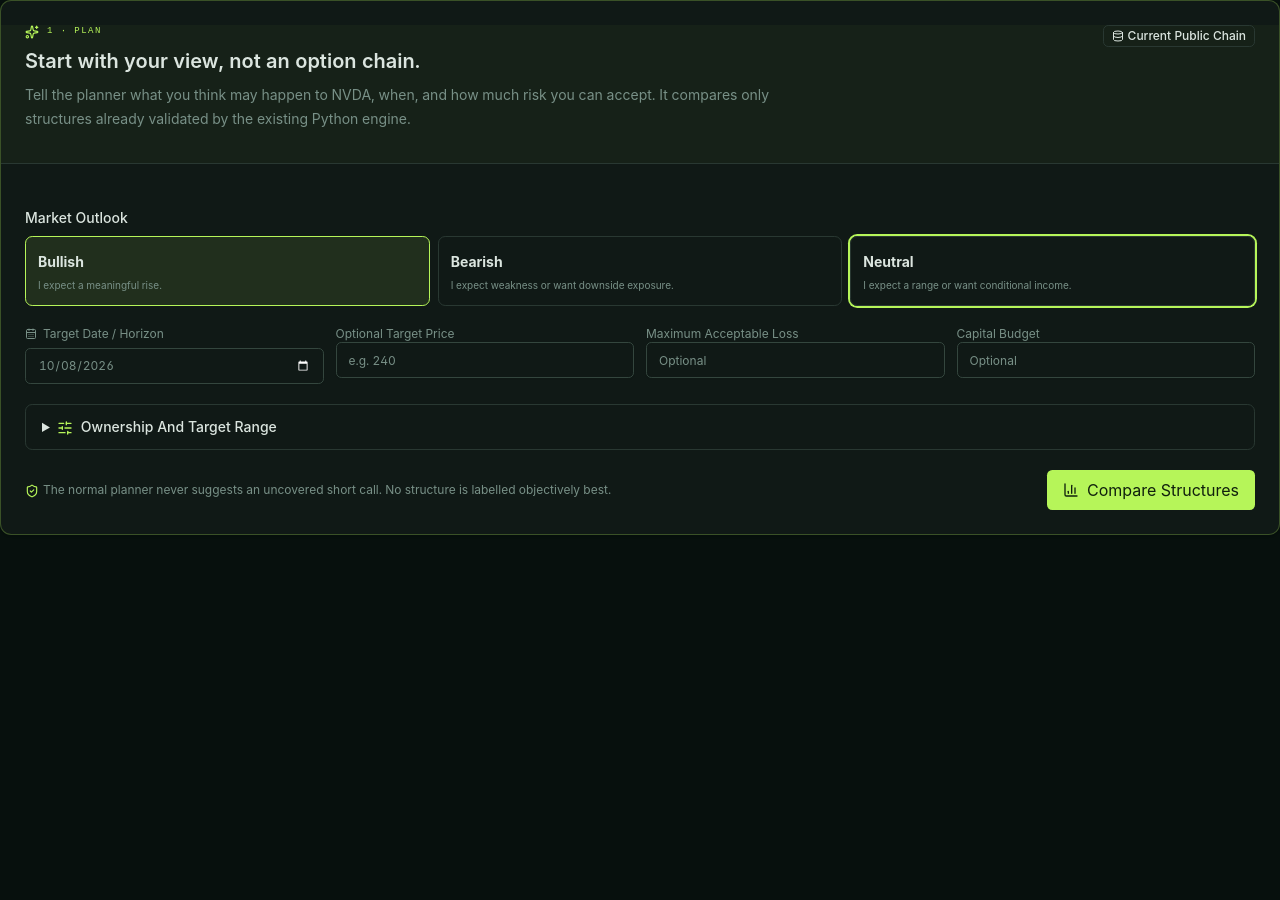
it: OptionsPlanner › supports keyboard outlook selection and sends ownership constraints
The width and height of the screenshot is (1280, 900).
Press Enter
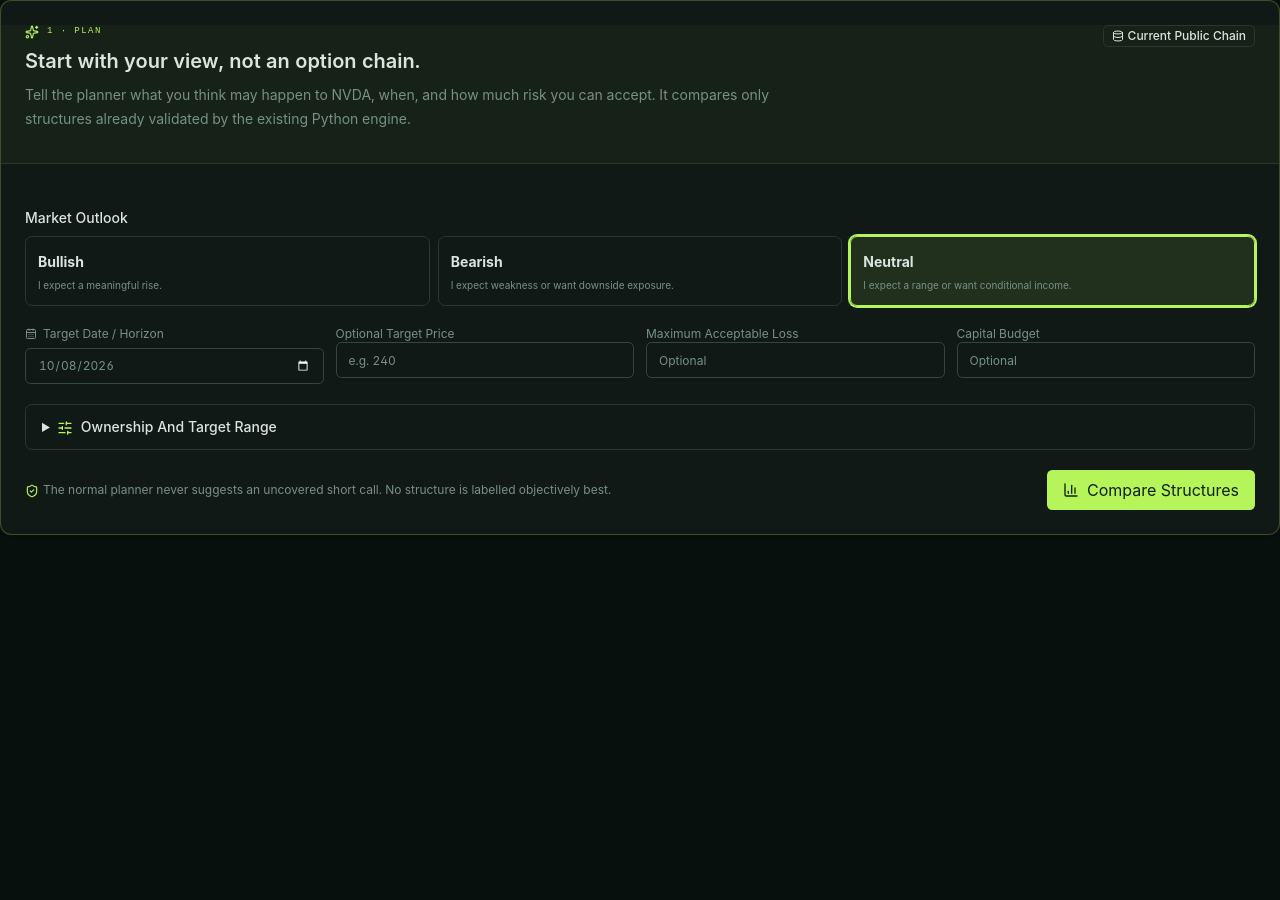
Click the heading "Ownership And Target Range" at coordinates (167, 427), box x1=57 y1=418 x2=277 y2=436
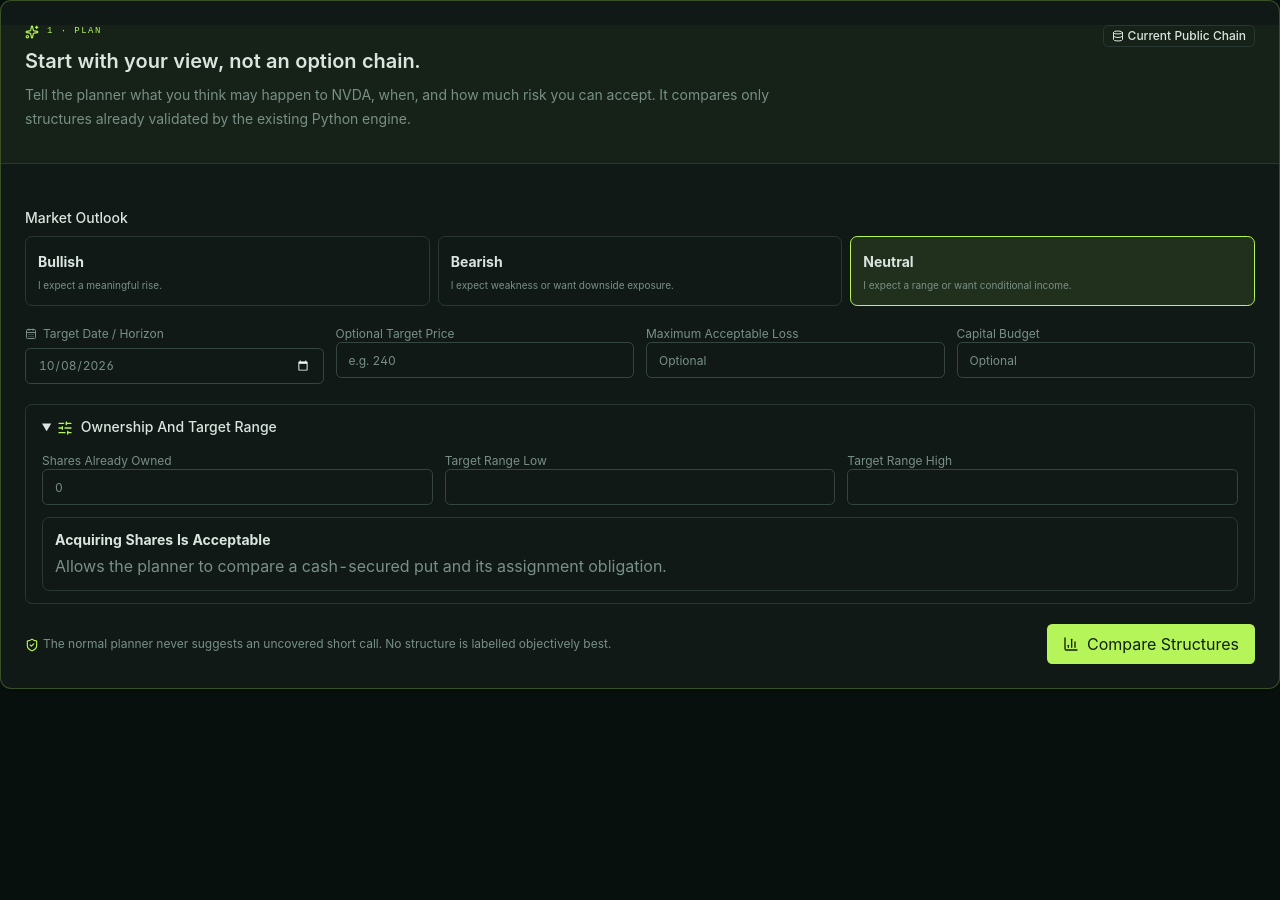
Replace the text in the number field labelled "Shares Already Owned" with "100" at coordinates (237, 487), box x1=42 y1=469 x2=433 y2=505
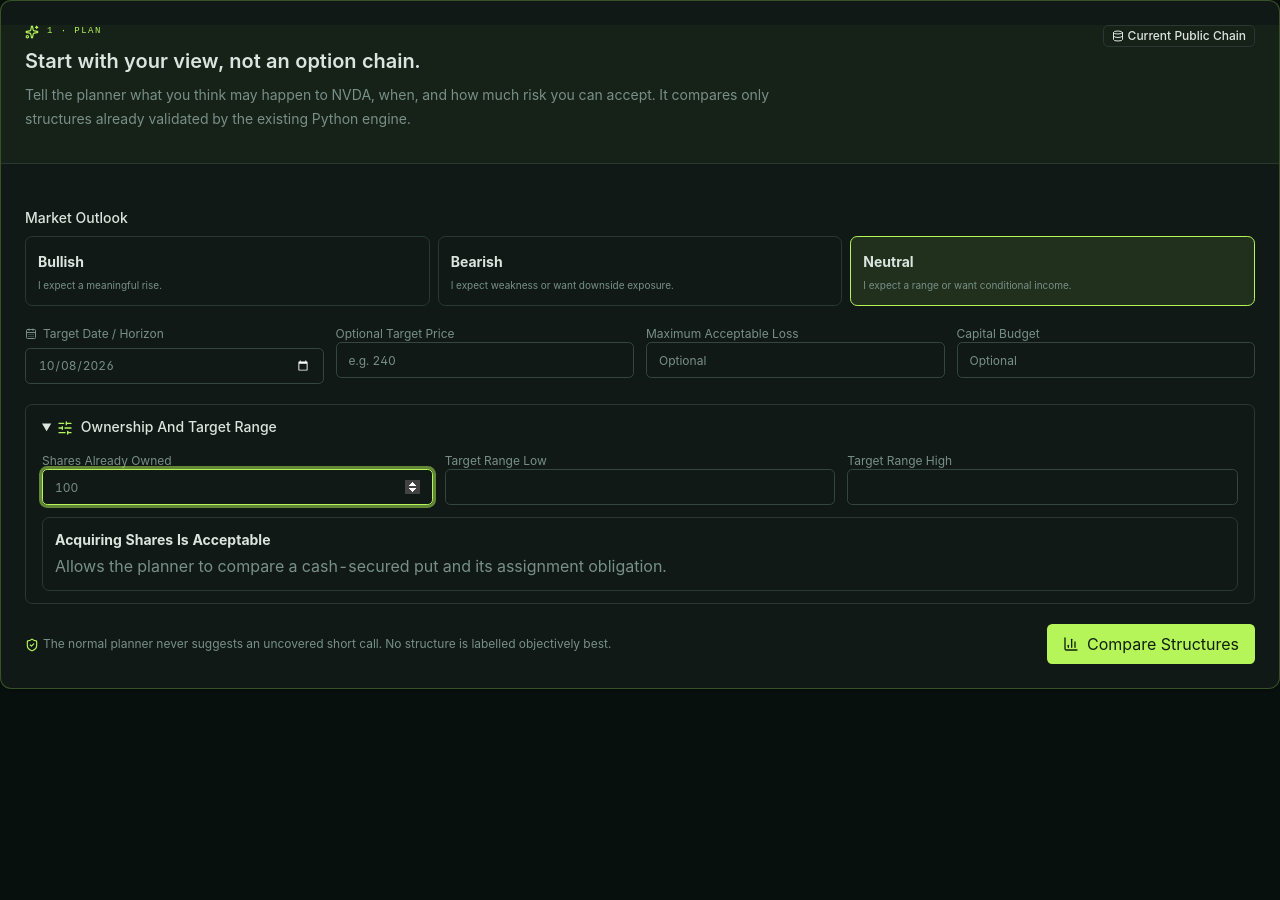
Click the button "Acquiring Shares Is Acceptable" at coordinates (640, 554), box x1=42 y1=517 x2=1238 y2=591
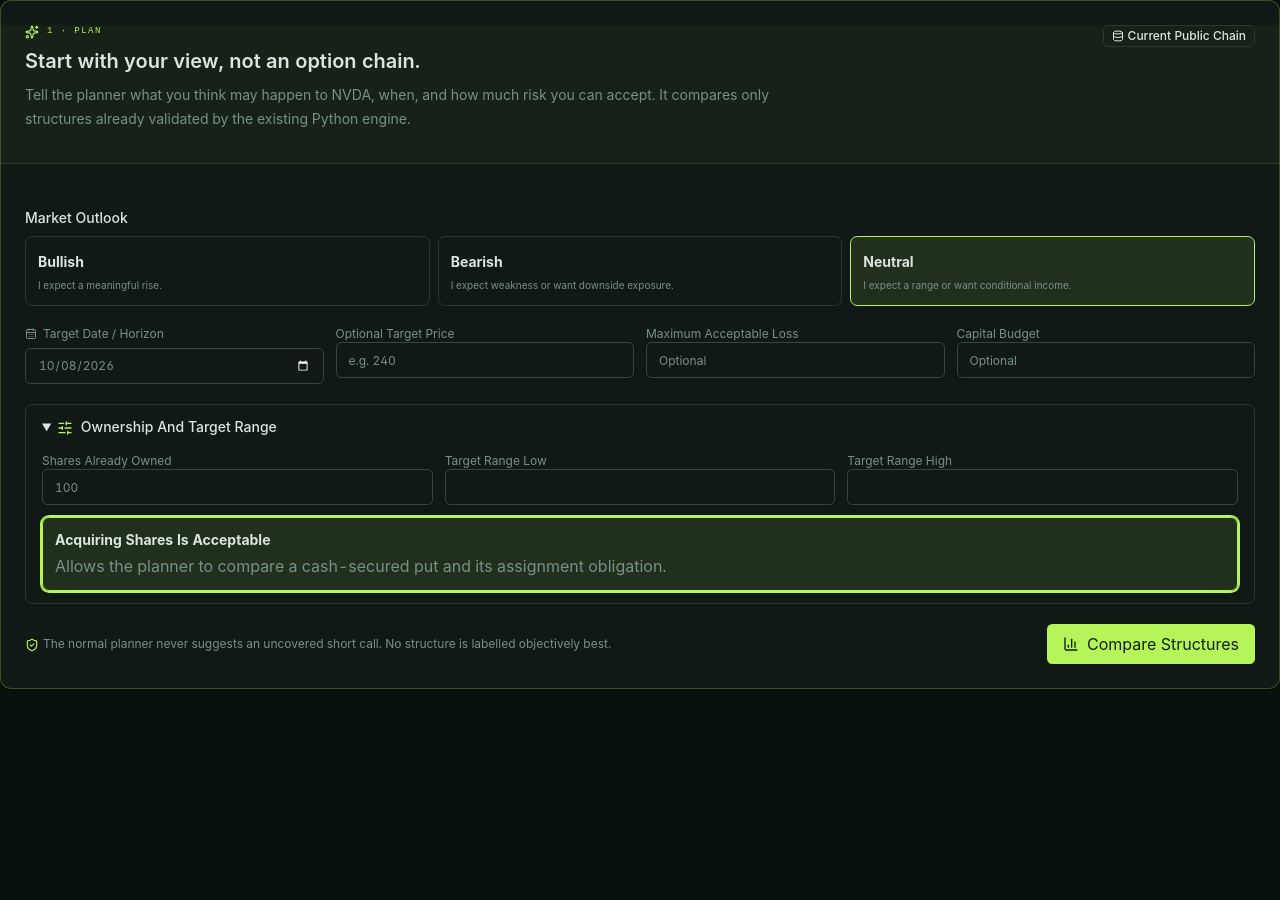
Click the button "Compare Structures" at coordinates (1151, 644), box x1=1047 y1=624 x2=1255 y2=664
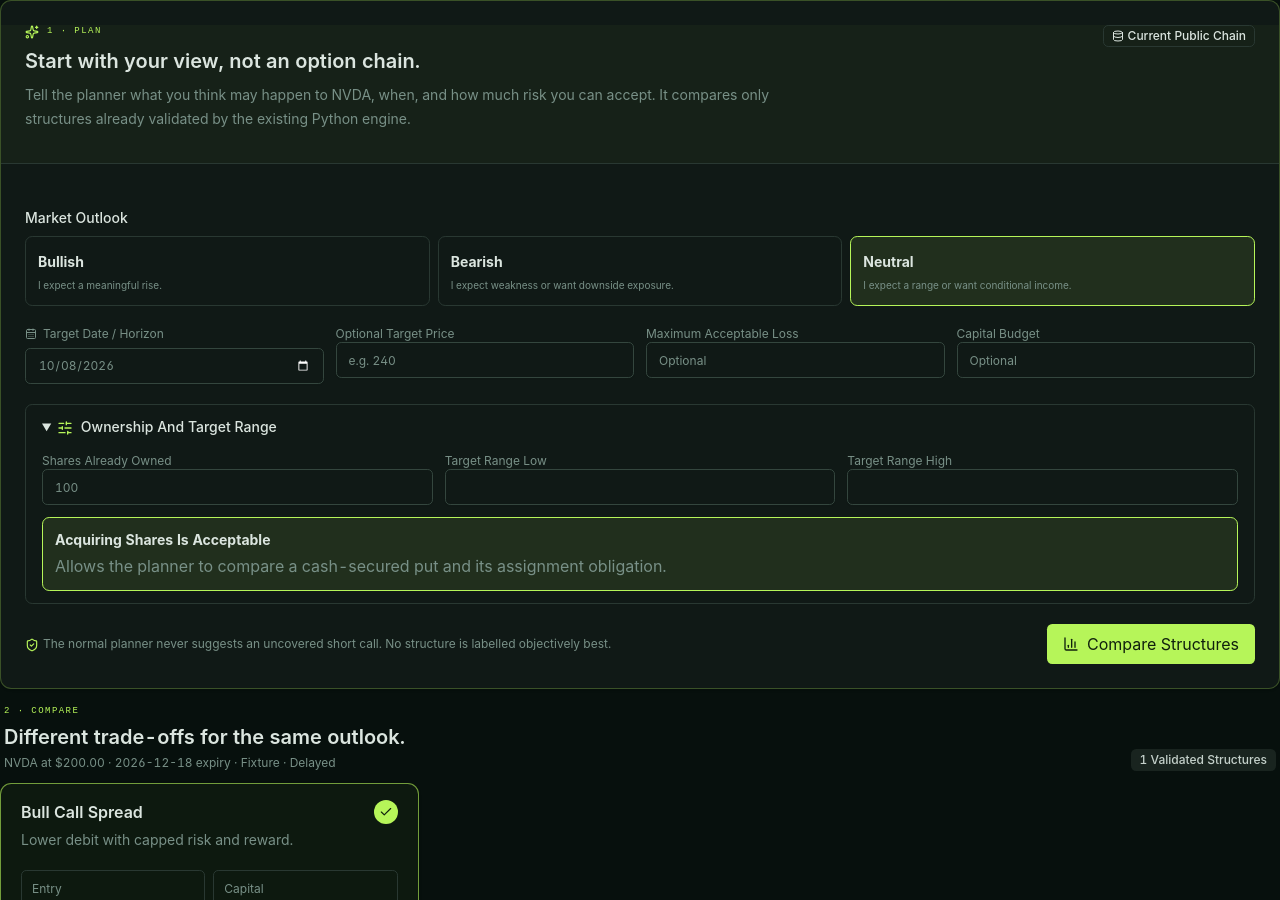
Check: the text "Bull Call Spread" is shown, box x1=21 y1=802 x2=143 y2=822
